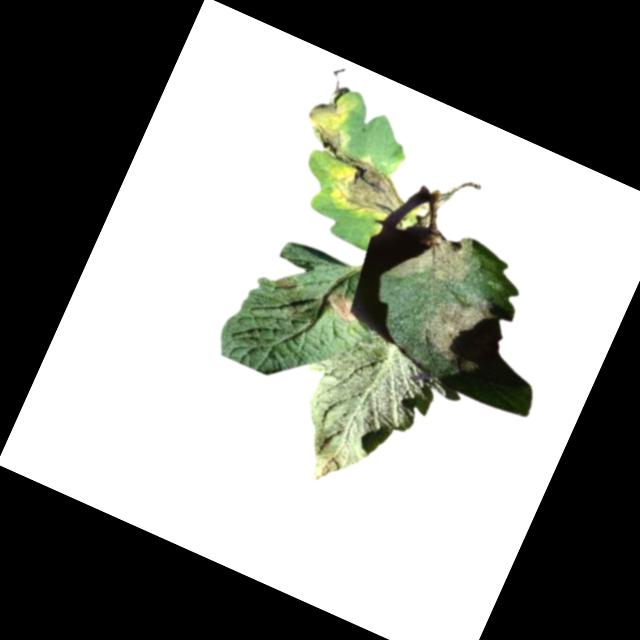Late_blight: (387, 212, 484, 305), (407, 283, 503, 375), (322, 150, 416, 231), (294, 76, 368, 162), (317, 288, 364, 327), (269, 271, 297, 296)
healthy: (264, 313, 470, 521)
